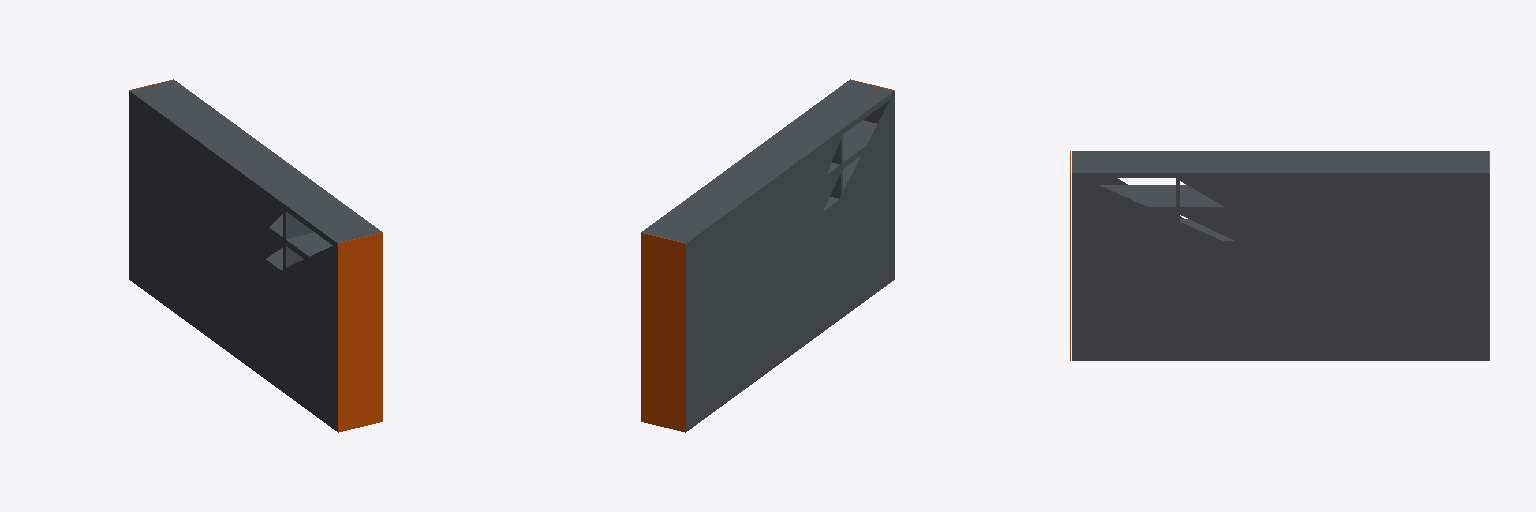
File: Ke4mNew.obj
3 renders of one model, left to right at view 1: azimuth 30°, elevation 25°; view 2: azimuth 150°, elevation 25°; view 3: azimuth 270°, elevation 25°, orthographic.
Parts seen in each view (by area): view 1: Cube.011, Cube; view 2: Cube.011, Cube.001; view 3: Cube.011.
Part boxes in pixels (x1,y1,x2,y2): Cube.011: (129,80,381,431); Cube: (338,232,382,432); Cube.011: (642,80,894,431); Cube.001: (641,232,685,432); Cube.011: (1072,151,1488,360).
Bounding box in the file's own units: 1 × 4 × 8.04.